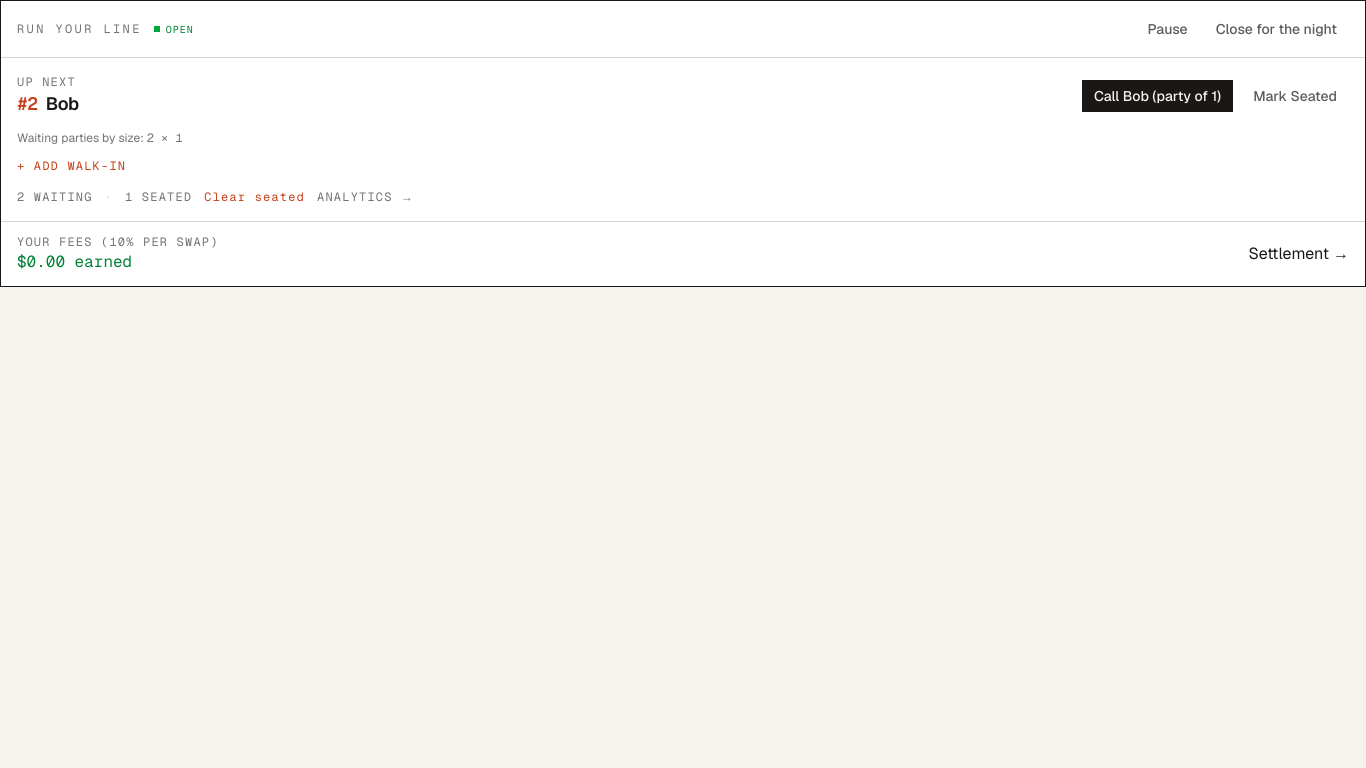
Scenario: OwnerConsole › counts only waiting parties when closing for the night
Click the button "Close for the night". click: [1276, 29]
box: [1204,13,1349,45]
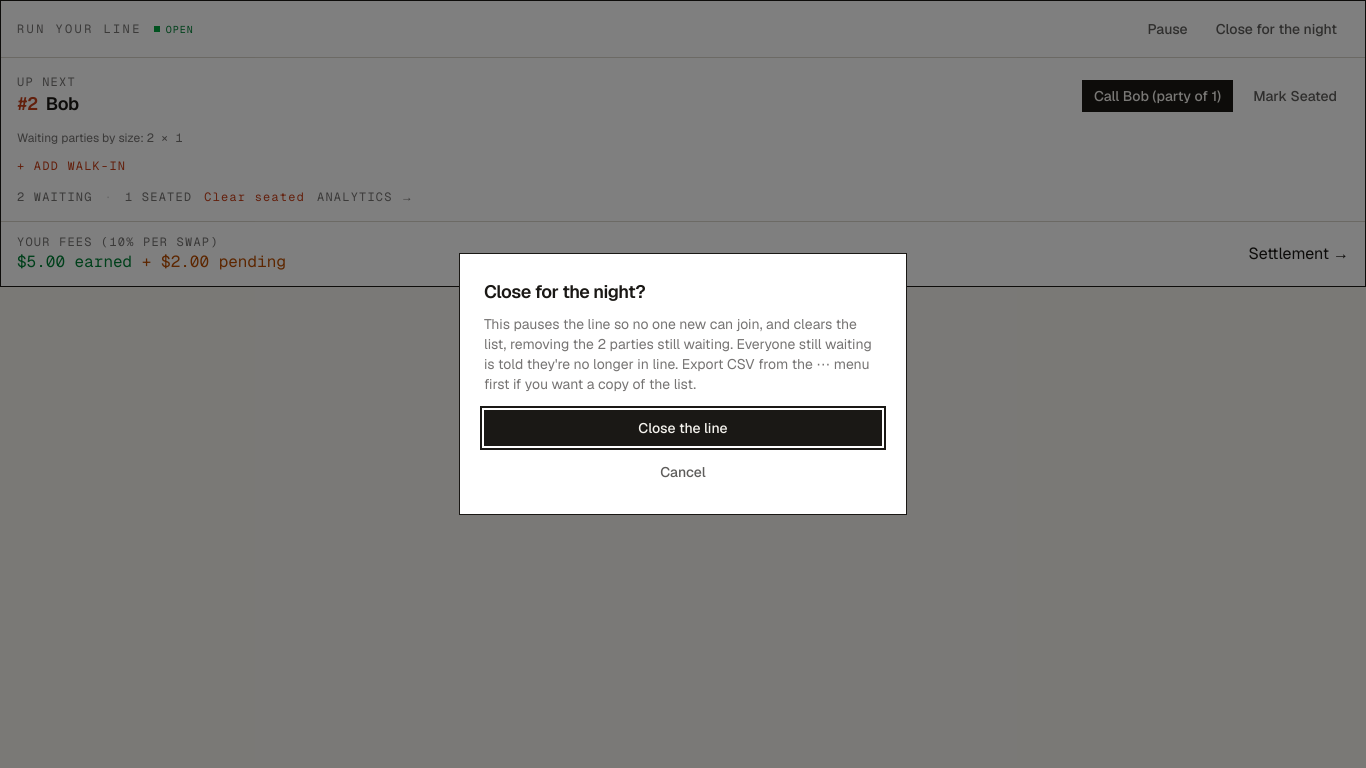
Now the dialog shows "removing the 2 parties still waiting"
